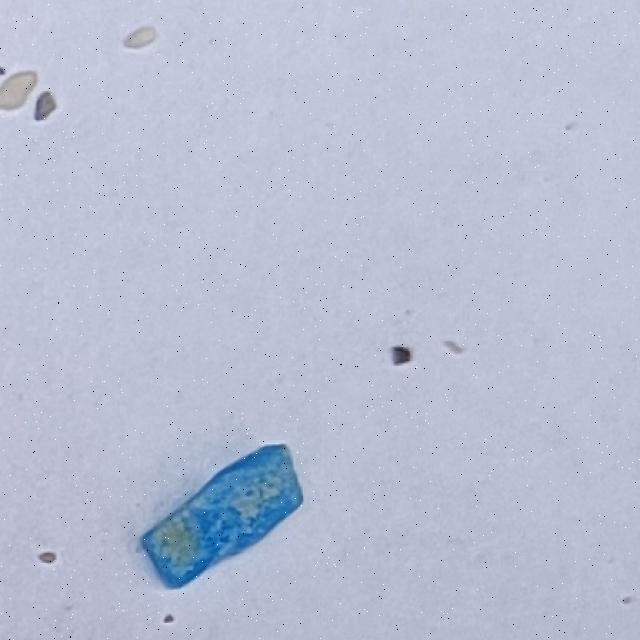fragments: (125, 434, 326, 602)
